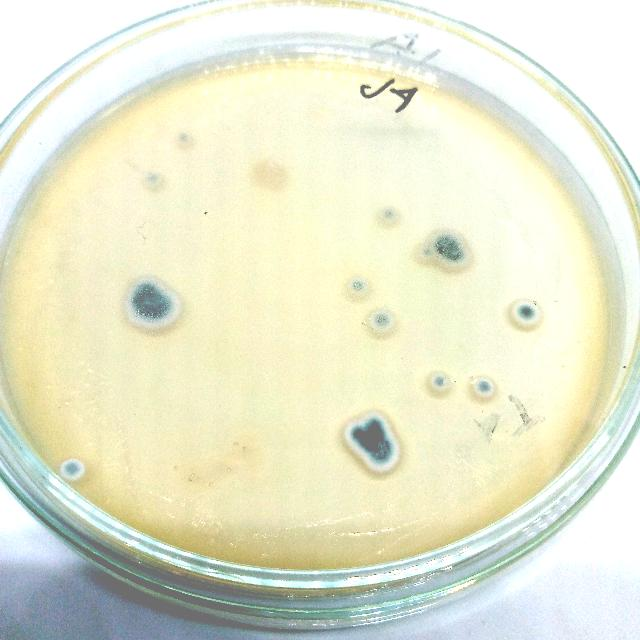colony: (126, 280, 184, 334), (244, 153, 294, 200), (361, 433, 405, 477), (428, 228, 472, 272), (504, 294, 544, 332), (362, 301, 398, 337), (56, 451, 90, 485), (467, 371, 499, 404), (361, 410, 391, 440), (426, 368, 454, 398), (344, 272, 374, 300), (340, 420, 368, 450), (413, 238, 441, 264), (170, 126, 196, 152), (376, 200, 400, 228)
